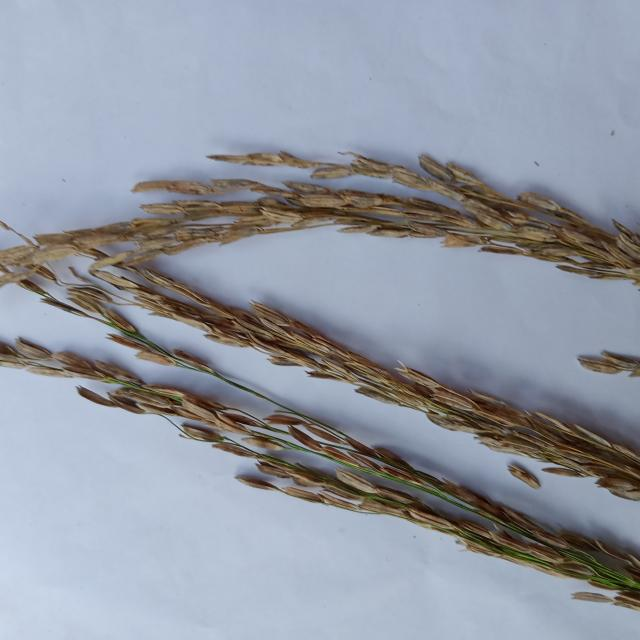Neck_Blast: (19, 341, 639, 602), (137, 268, 640, 500), (90, 158, 638, 282)
